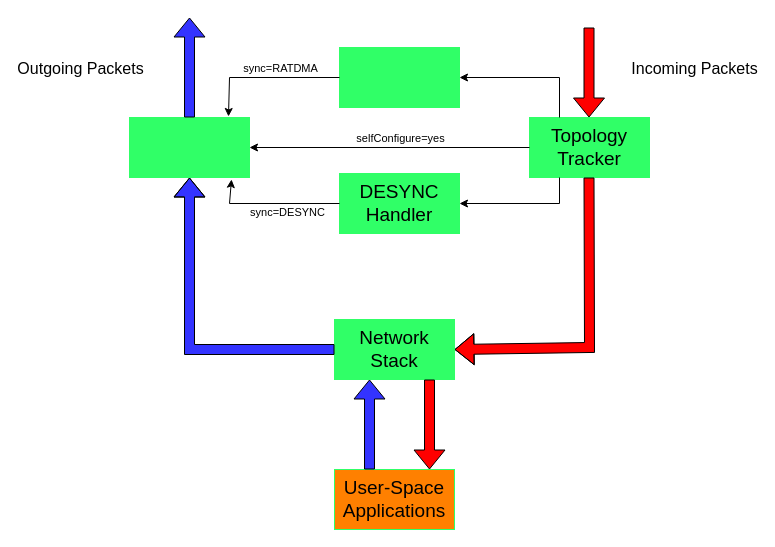
Image size: 775x547. Some labels were removed from this diagram. Each missing label, with the centre of its shape:
"RA-TDMAs+ Handler" belongs at point 399,77.
"TDMA QDisc" belongs at point 189,147.
